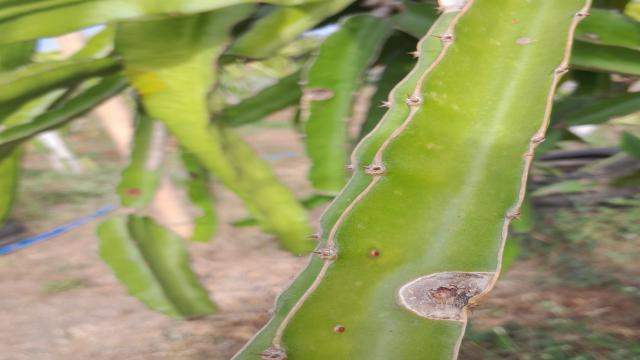stemcanker: (325, 320, 351, 341), (360, 243, 386, 264)
